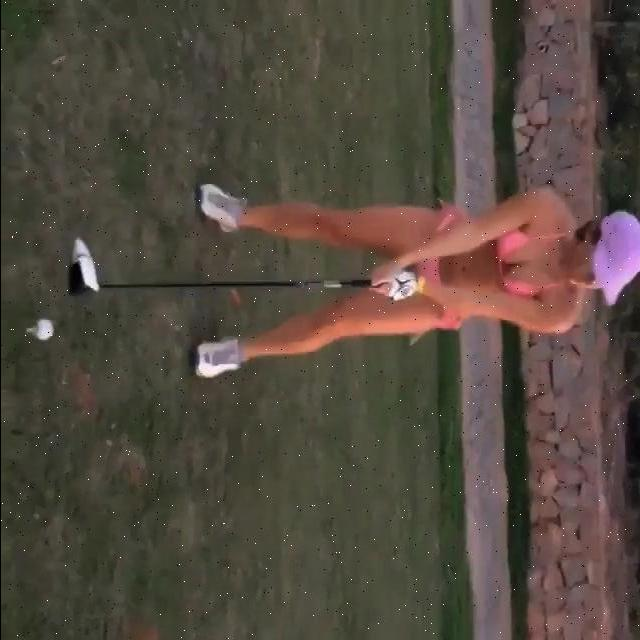golf ball: (35, 317, 53, 340)
golf club-handle: (68, 237, 373, 296)
golf club-head: (68, 236, 99, 295)
